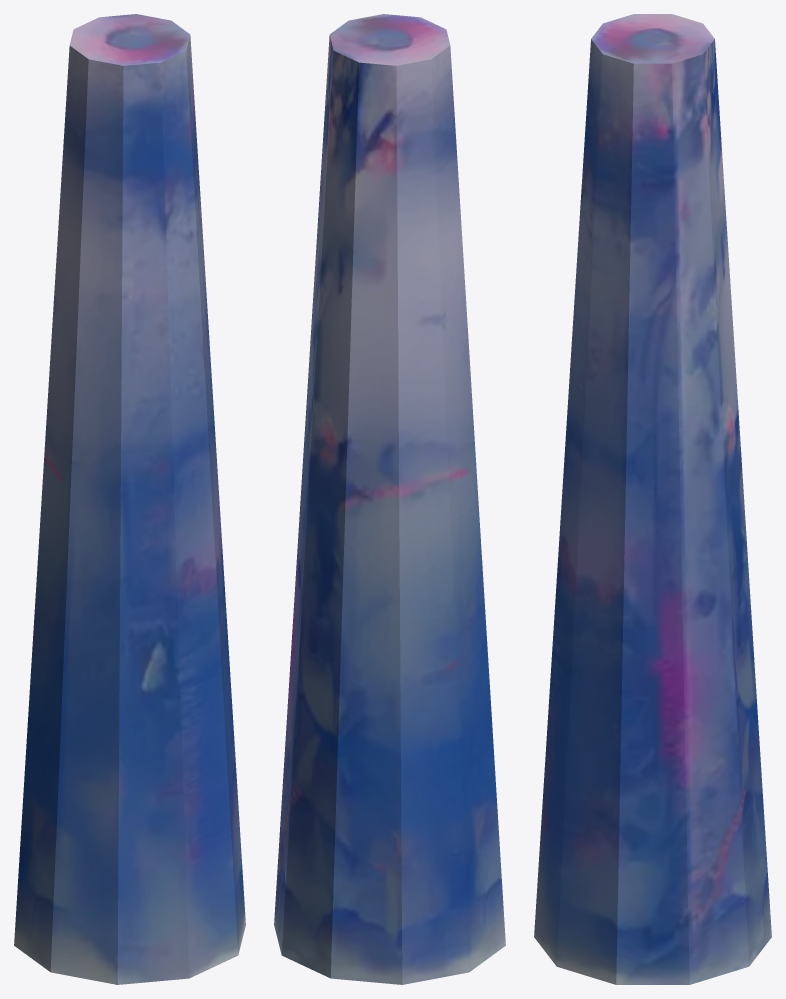
Rendered from tunnel-root-3-texture-wrap-2026-05-15T01-39-39-599Z.low.glb.
The picture shows the model from 3 angles, left to right: view 1: azimuth 30°, elevation 25°; view 2: azimuth 150°, elevation 25°; view 3: azimuth 270°, elevation 25°; orthographic projection.
Parts seen in each view (by area): view 1: GLTF; view 2: GLTF; view 3: GLTF.
Boxes of the visible parts, x1,y1,x2,y2 form: GLTF: [14, 14, 245, 984]; GLTF: [274, 14, 505, 984]; GLTF: [534, 14, 771, 984].
Size of the model in its own units: 6.29 by 27.54 by 6.61.
Materials: 1 (1 with a texture image).
